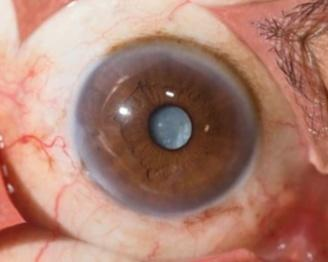eye: (73, 36, 259, 222)
